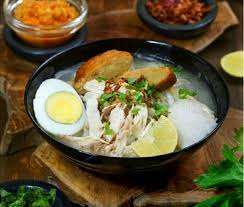soto: (13, 38, 244, 175)
